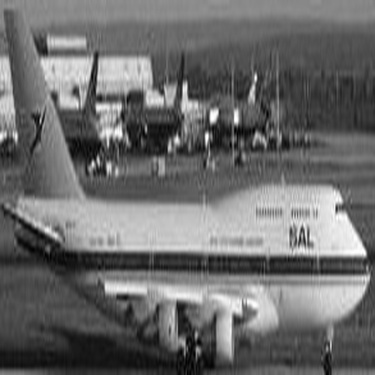airplane: (1, 30, 351, 354)
